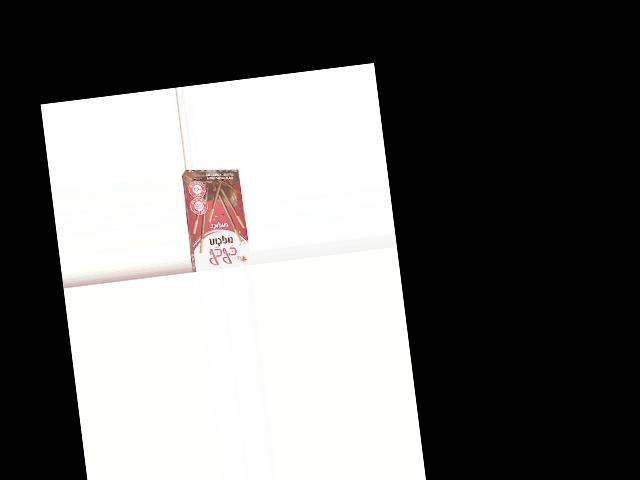chocolate: (181, 170, 252, 272)
